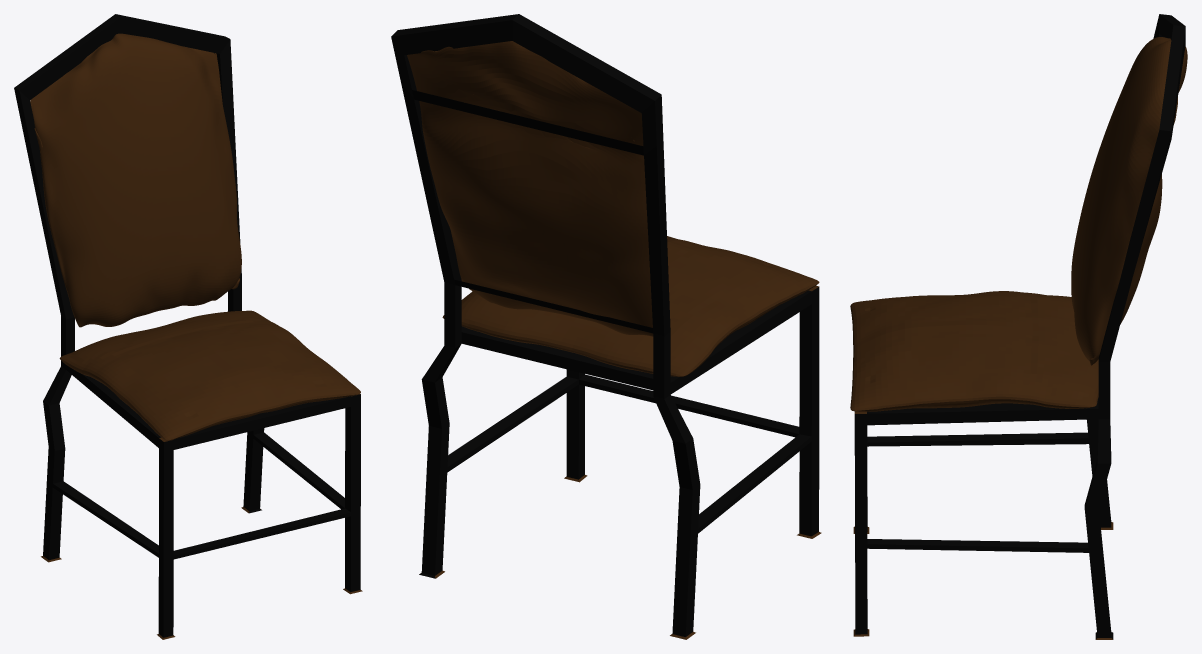
File: Chaise.fbx
3 renders of one model, left to right at view 1: azimuth 30°, elevation 25°; view 2: azimuth 150°, elevation 25°; view 3: azimuth 270°, elevation 25°, orthographic. The views are drawn at different scales.
Visible parts, largest first — view 1: Chaise; view 2: Chaise; view 3: Chaise.
Boxes of the visible parts, box(x1,y1,x2,y2) form: Chaise: box(14, 14, 362, 639); Chaise: box(391, 14, 821, 639); Chaise: box(850, 14, 1187, 639).
Size of the model in its own units: 36.31 by 79.9 by 43.86.
